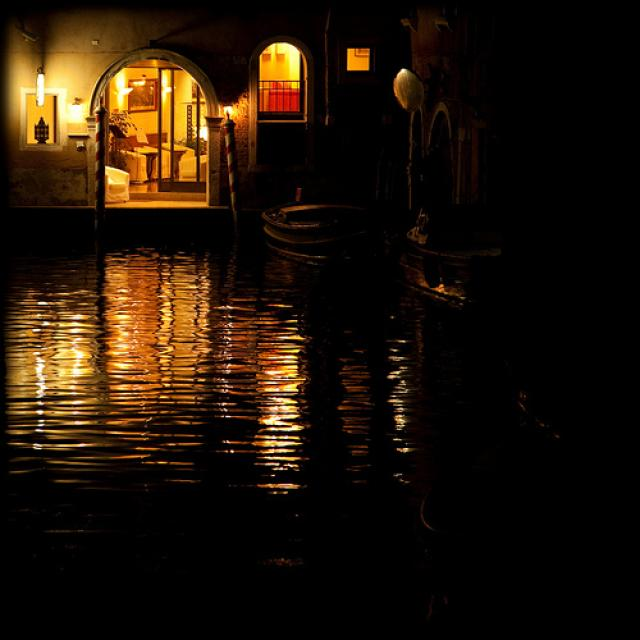Boat: (412, 181, 546, 380), (246, 180, 397, 298)
